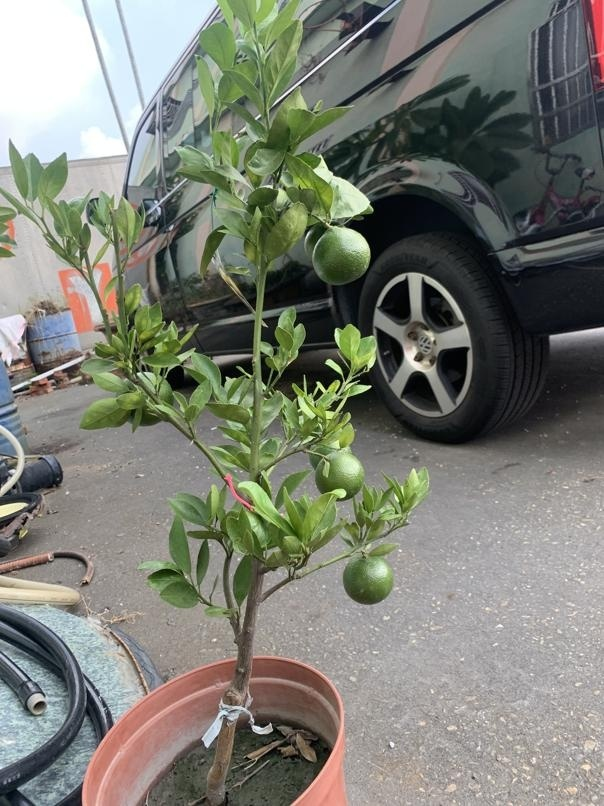Tangerine: (310, 225, 374, 285), (339, 546, 395, 606), (315, 450, 367, 500)
